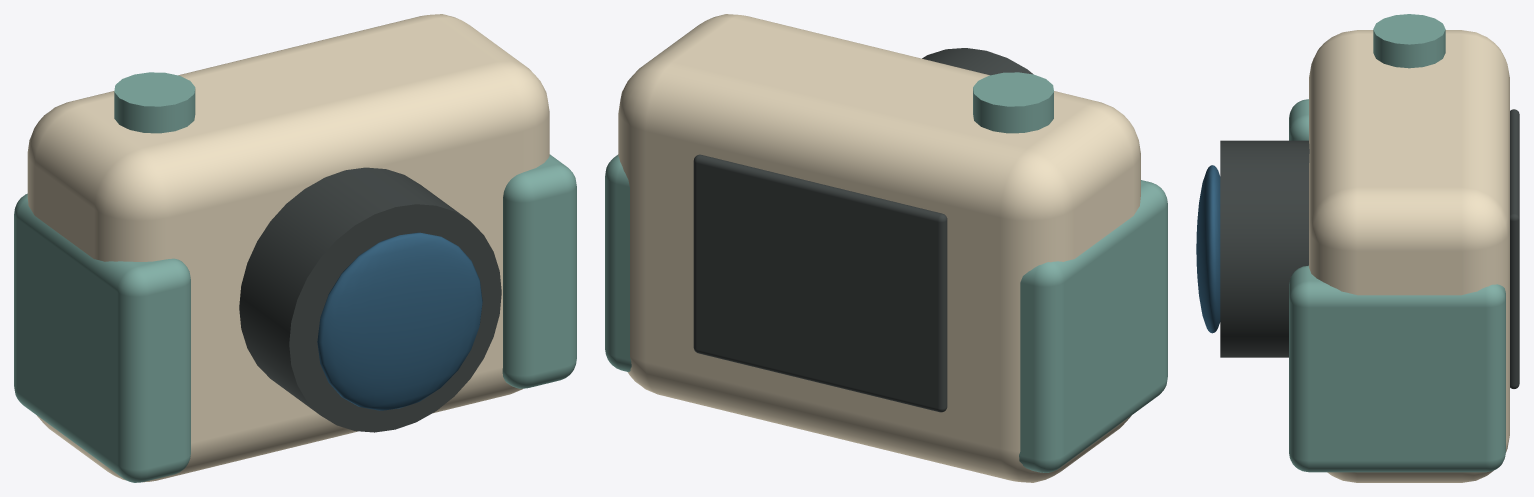
File: camera.glb
The picture shows the model from 3 angles, left to right: view 1: azimuth 30°, elevation 25°; view 2: azimuth 150°, elevation 25°; view 3: azimuth 270°, elevation 25°; orthographic projection. The views are drawn at different scales.
Parts seen in each view (by area): view 1: Camera_body, Camera_grip_-1, Camera_lens_barrel, Camera_lens_glass, Camera_grip_1, Camera_shutter; view 2: Camera_body, Camera_rear_screen, Camera_grip_-1, Camera_grip_1, Camera_shutter, Camera_lens_barrel; view 3: Camera_body, Camera_grip_1, Camera_lens_barrel, Camera_lens_glass, Camera_shutter, Camera_rear_screen, Camera_grip_-1.
Part boxes in pixels (x1,y1,x2,y2): Camera_body: (27,14,549,482); Camera_grip_-1: (14,193,190,482); Camera_lens_barrel: (239,167,501,432); Camera_lens_glass: (317,232,482,410); Camera_grip_1: (502,154,576,388); Camera_shutter: (114,72,195,133); Camera_body: (618,14,1140,482); Camera_rear_screen: (693,154,947,412); Camera_grip_-1: (1019,180,1167,472); Camera_grip_1: (605,154,631,371); Camera_shutter: (973,72,1053,133); Camera_lens_barrel: (922,48,1033,75); Camera_body: (1309,30,1509,482); Camera_grip_1: (1289,265,1505,472); Camera_lens_barrel: (1220,140,1309,357); Camera_lens_glass: (1196,165,1220,333); Camera_shutter: (1373,14,1445,68); Camera_rear_screen: (1510,109,1519,388); Camera_grip_-1: (1289,99,1308,140).
Size of the model in its own units: 0.58 by 0.4325 by 0.402.
